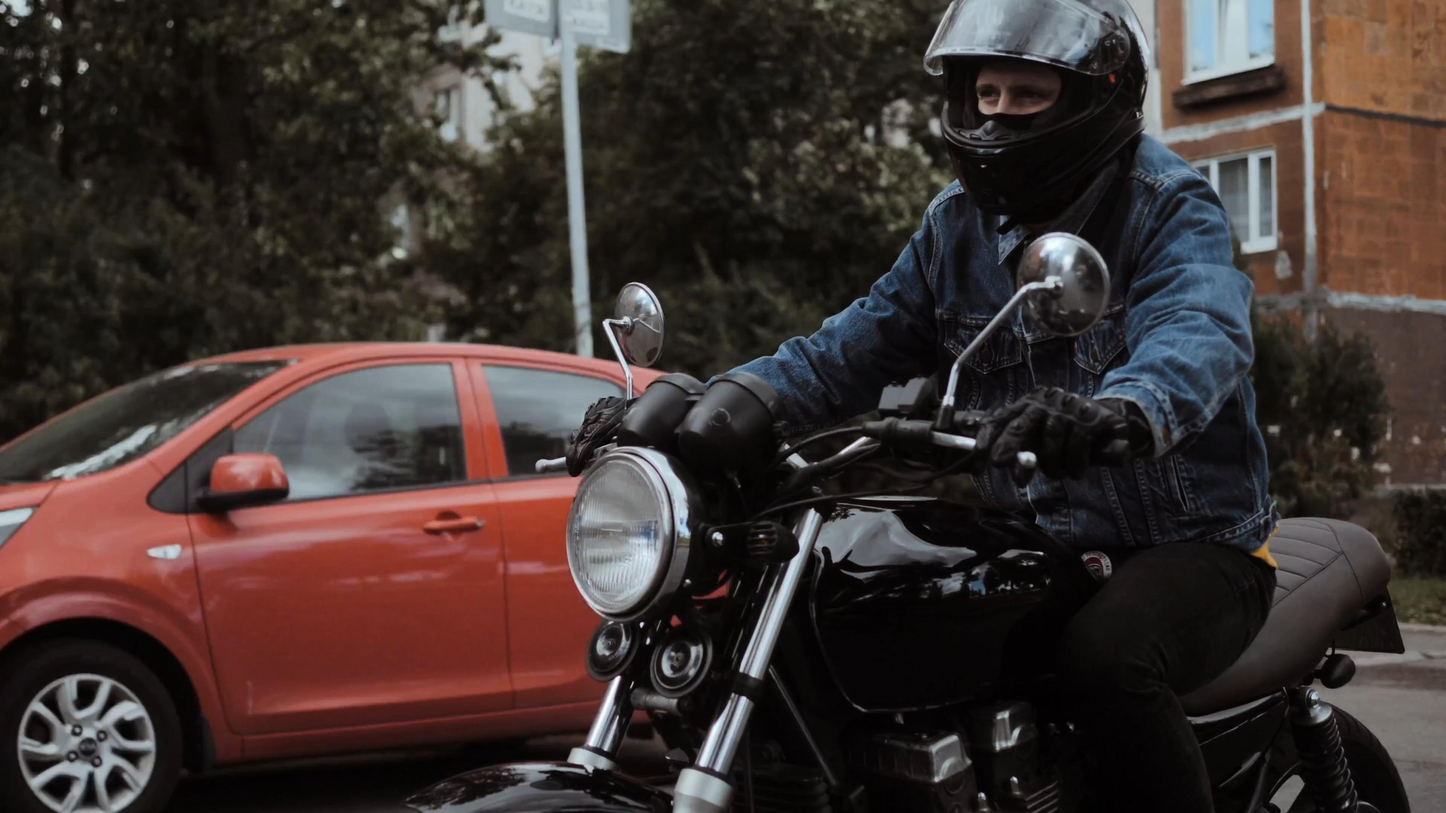driver: (406, 0, 1415, 813)
helmet: (922, 0, 1153, 235)
